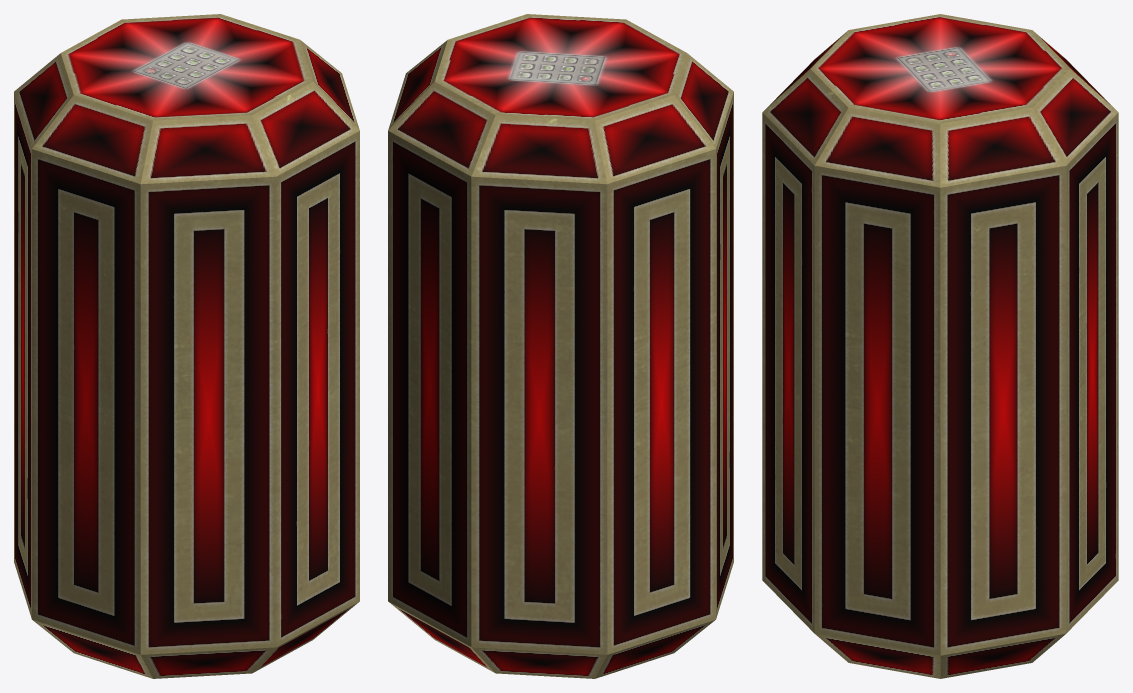
The model's file is Weapon03.FBX.
3 views of the same model, side by side, from view 1: azimuth 30°, elevation 25°; view 2: azimuth 150°, elevation 25°; view 3: azimuth 270°, elevation 25° (orthographic).
Visible parts, largest first — view 1: Weapon03; view 2: Weapon03; view 3: Weapon03.
Part boxes in pixels (box(x1,y1,x2,y2)): Weapon03: box(14, 14, 359, 678); Weapon03: box(388, 14, 733, 678); Weapon03: box(762, 14, 1118, 678).
Size of the model in its own units: 16.03 by 27.57 by 16.03.
